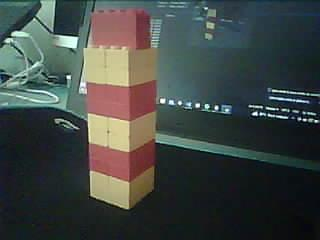lego: (83, 7, 159, 210)
